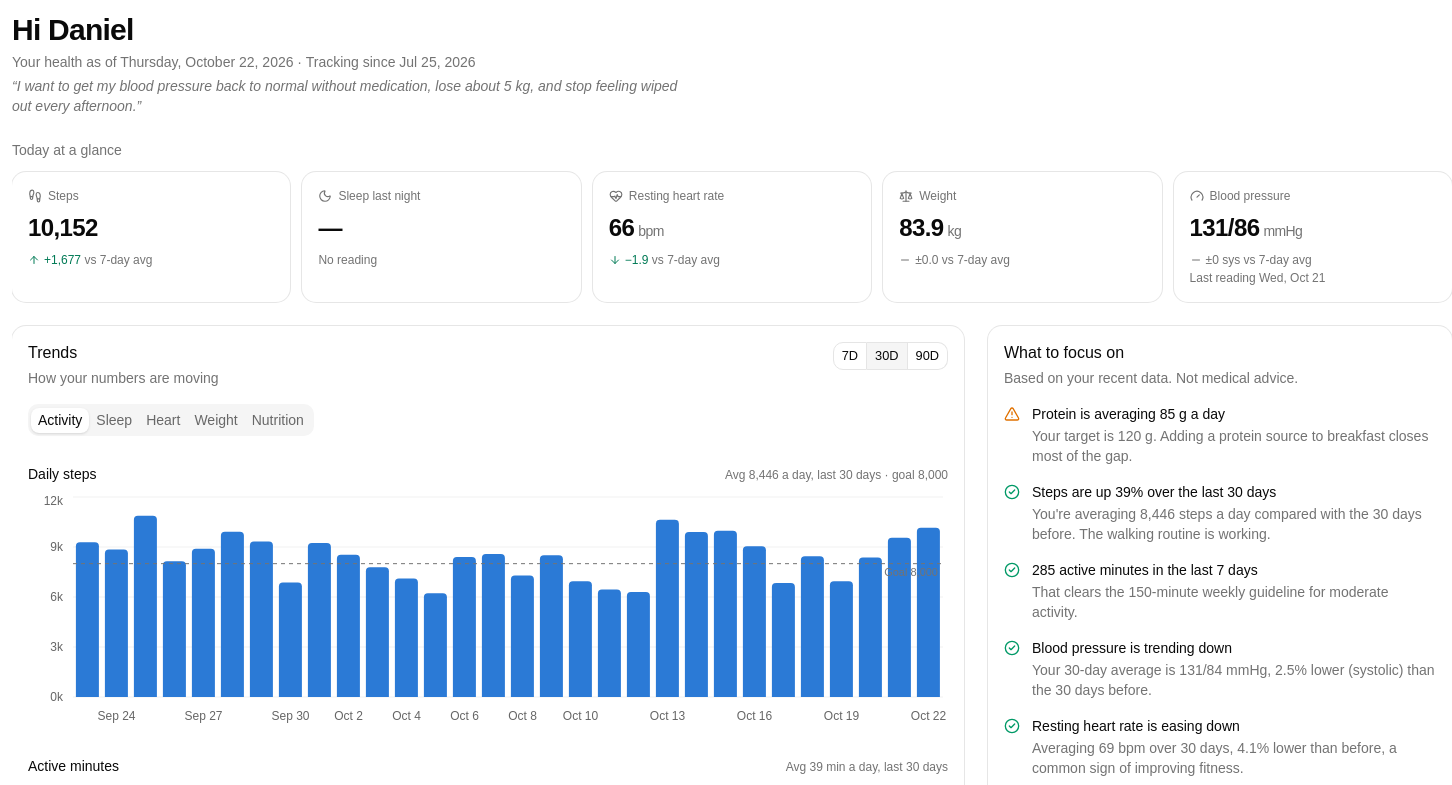
Dashboard › shows empty chart and list states when a metric has no data
Expected: the heading "Hi Daniel" is shown, left=12, top=13, right=134, bottom=46
What coordinates should you click on to do the following:
click the tab "Sleep"
I would click on:
 (114, 420)
Its box is left=89, top=408, right=139, bottom=432.
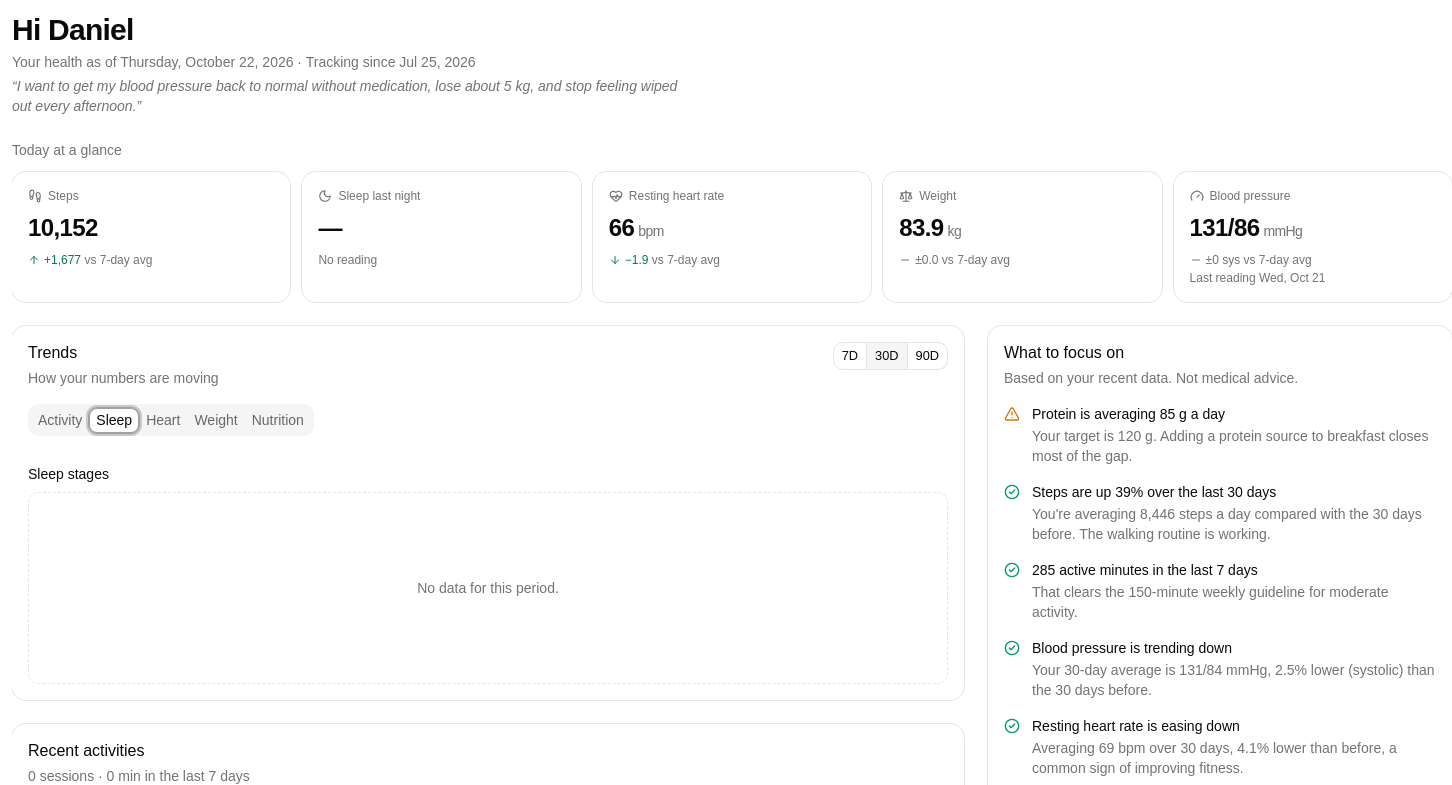
Expected: the text "No data for this period." is shown, left=28, top=492, right=948, bottom=684
